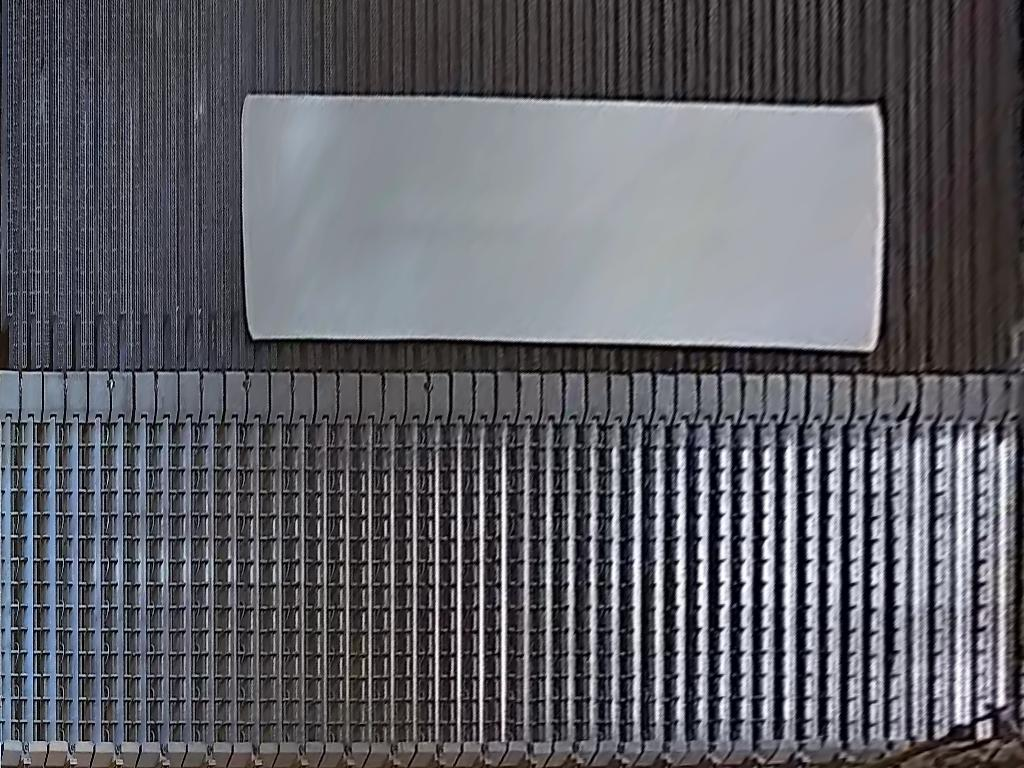steel: (240, 93, 883, 351)
